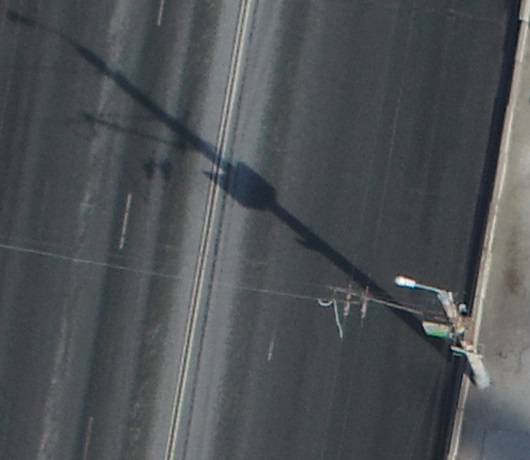opora: (390, 274, 495, 390)
